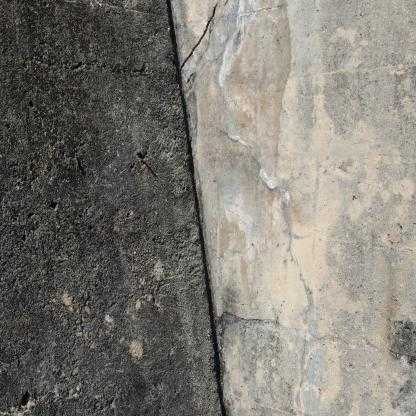crack: (164, 5, 228, 409), (184, 3, 218, 66)
